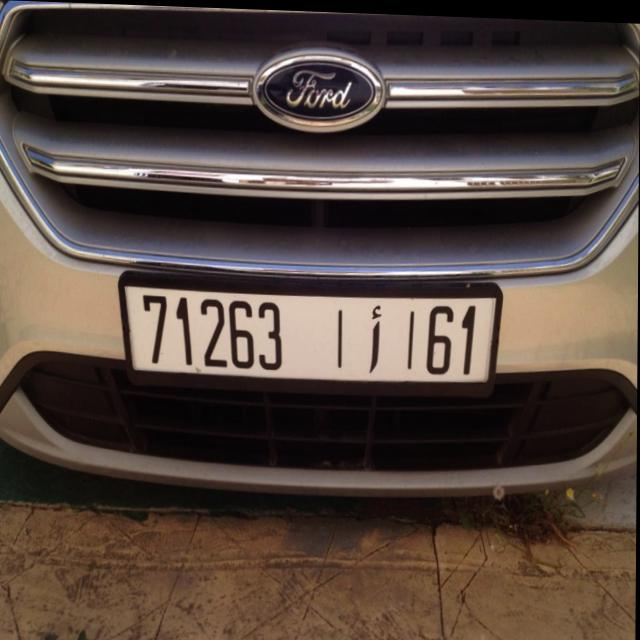License-Plate: (121, 272, 502, 393)
